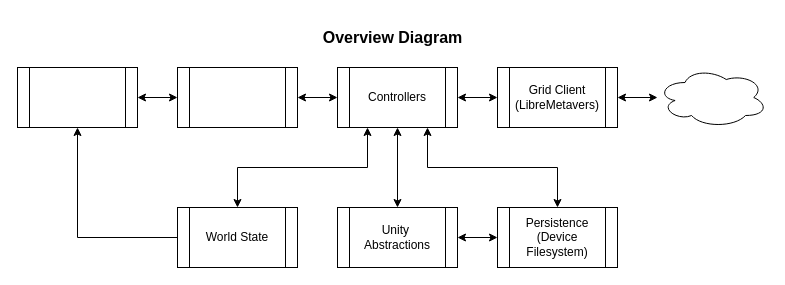
The diagram is 785 pixels wide and 285 high, and some of its shapes have lost their labels. Each missing label, with the centre of its shape:
"Grids" belongs at pixel 712 97.
"Render System" belongs at pixel 77 97.
"UI Abstractions" belongs at pixel 237 97.
